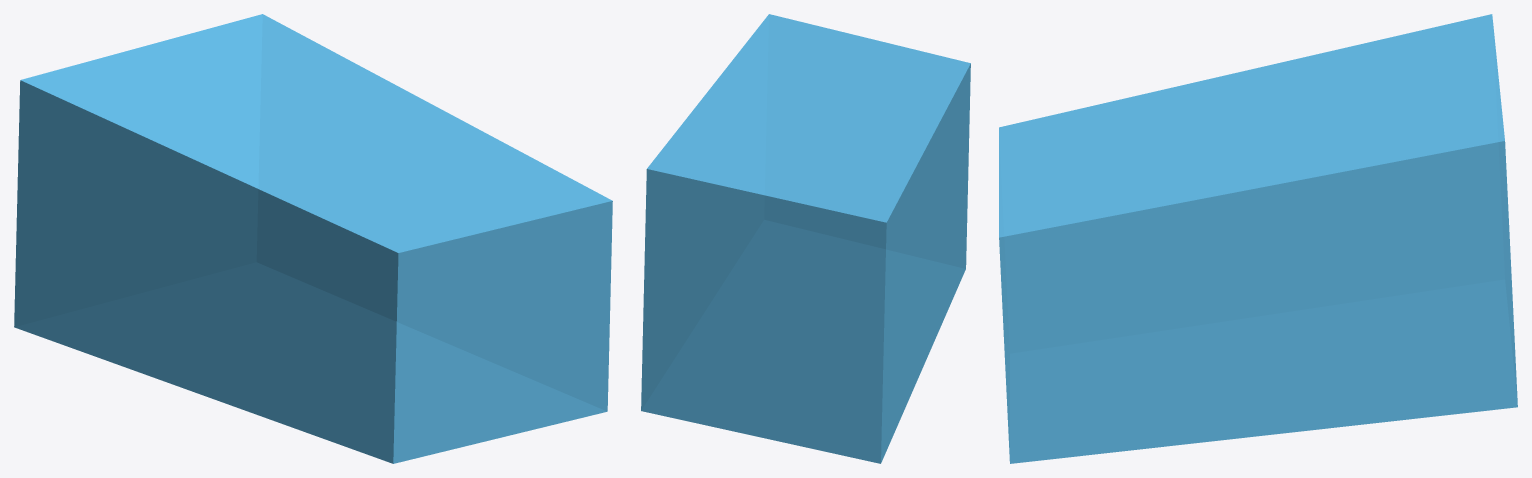
Rendered from Event_421127236_HBrechit_2.fbx.
3 renders of one model, left to right at view 1: azimuth 30°, elevation 25°; view 2: azimuth 150°, elevation 25°; view 3: azimuth 270°, elevation 25°, orthographic. The views are drawn at different scales.
Visible parts, largest first — view 1: Model; view 2: Model; view 3: Model.
Boxes of the visible parts, x1=… form: Model: x1=14, y1=14, x2=612, y2=463; Model: x1=641, y1=14, x2=970, y2=463; Model: x1=999, y1=14, x2=1517, y2=463.
Bounding box in the file's own units: 0.7019 × 0.4724 × 0.8339.
